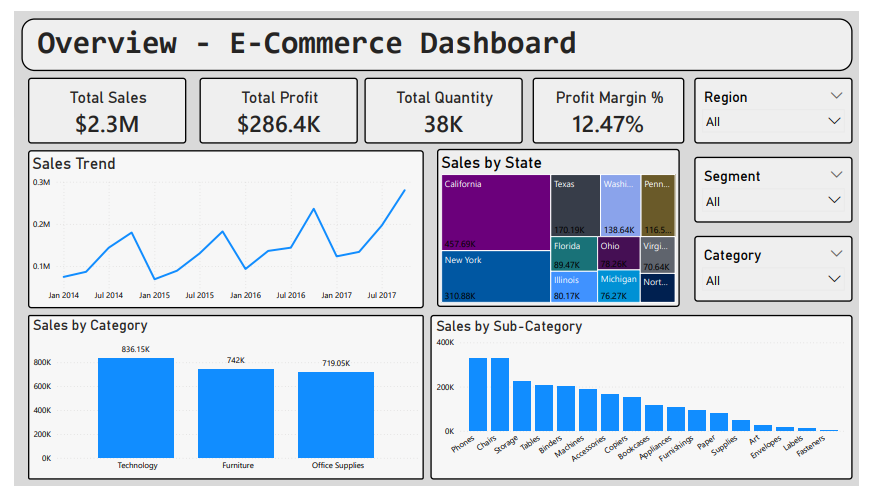

The page's visual inventory and layout, read from the dashboard file:
{"tool":"powerbi","page":{"name":"Overview","canvas":[1280,720],"ordinal":0},"visuals":[{"type":"shape","box":[10,10,1260,80],"z":0},{"type":"textbox","box":[30,14,900,72],"z":1000},{"type":"lineChart","title":"Sales Trend","fields":{"Y":["Sum(Sample_ Superstore.Sales)"],"Category":["Sample_ Superstore.Order Date.Variation.Date Hierarchy.Year","Sample_ Superstore.Order Date.Variation.Date Hierarchy.Quarter"]},"box":[20,210,600,240],"z":2000},{"type":"card","title":"Total Sales","fields":{"Values":["Sample_ Superstore.Total_Sales"]},"box":[20,100,240,100],"z":3000},{"type":"card","title":"Total Profit","fields":{"Values":["Sample_ Superstore.Total_Profits"]},"box":[280,100,240,100],"z":4000},{"type":"card","title":"Total Quantity","fields":{"Values":["Sample_ Superstore.Total_Quantity"]},"box":[530,100,240,100],"z":5000},{"type":"columnChart","title":"Sales by Category","fields":{"Y":["Sum(Sample_ Superstore.Sales)"],"Category":["Sample_ Superstore.Category"]},"box":[20,460,600,250],"z":6000},{"type":"columnChart","title":"Sales by Sub-Category","fields":{"Y":["Sum(Sample_ Superstore.Sales)"],"Category":["Sample_ Superstore.Sub-Category"]},"box":[630,460,640,250],"z":7000},{"type":"slicer","fields":{"Values":["Sample_ Superstore.Region"]},"box":[1030,100,240,100],"z":7001},{"type":"slicer","fields":{"Values":["Sample_ Superstore.Segment"]},"box":[1030,220,240,100],"z":7002},{"type":"slicer","fields":{"Values":["Sample_ Superstore.Category"]},"box":[1030,340,240,100],"z":7003},{"type":"card","title":"Profit Margin %","fields":{"Values":["Sample_ Superstore.Profit Margin (%)"]},"box":[785,100,230,100],"z":7004},{"type":"treemap","title":"Sales by State","fields":{"Group":["Sample_ Superstore.State"],"Values":["Sum(Sample_ Superstore.Sales)"]},"box":[640,208,368,240],"z":7005}]}

Visuals, with their boxes in screenshot pixels (x1, y1, x2, y2), scaled from the page's 1280x720 canvas onto the 873x502 screenshot:
shape: {"x1": 7, "y1": 7, "x2": 866, "y2": 63}
textbox: {"x1": 20, "y1": 10, "x2": 634, "y2": 60}
"Sales Trend" lineChart: {"x1": 14, "y1": 146, "x2": 423, "y2": 314}
"Total Sales" card: {"x1": 14, "y1": 70, "x2": 177, "y2": 139}
"Total Profit" card: {"x1": 191, "y1": 70, "x2": 355, "y2": 139}
"Total Quantity" card: {"x1": 361, "y1": 70, "x2": 525, "y2": 139}
"Sales by Category" columnChart: {"x1": 14, "y1": 321, "x2": 423, "y2": 495}
"Sales by Sub-Category" columnChart: {"x1": 430, "y1": 321, "x2": 866, "y2": 495}
slicer - Sample_ Superstore.Region: {"x1": 702, "y1": 70, "x2": 866, "y2": 139}
slicer - Sample_ Superstore.Segment: {"x1": 702, "y1": 153, "x2": 866, "y2": 223}
slicer - Sample_ Superstore.Category: {"x1": 702, "y1": 237, "x2": 866, "y2": 307}
"Profit Margin %" card: {"x1": 535, "y1": 70, "x2": 692, "y2": 139}
"Sales by State" treemap: {"x1": 436, "y1": 145, "x2": 687, "y2": 312}
